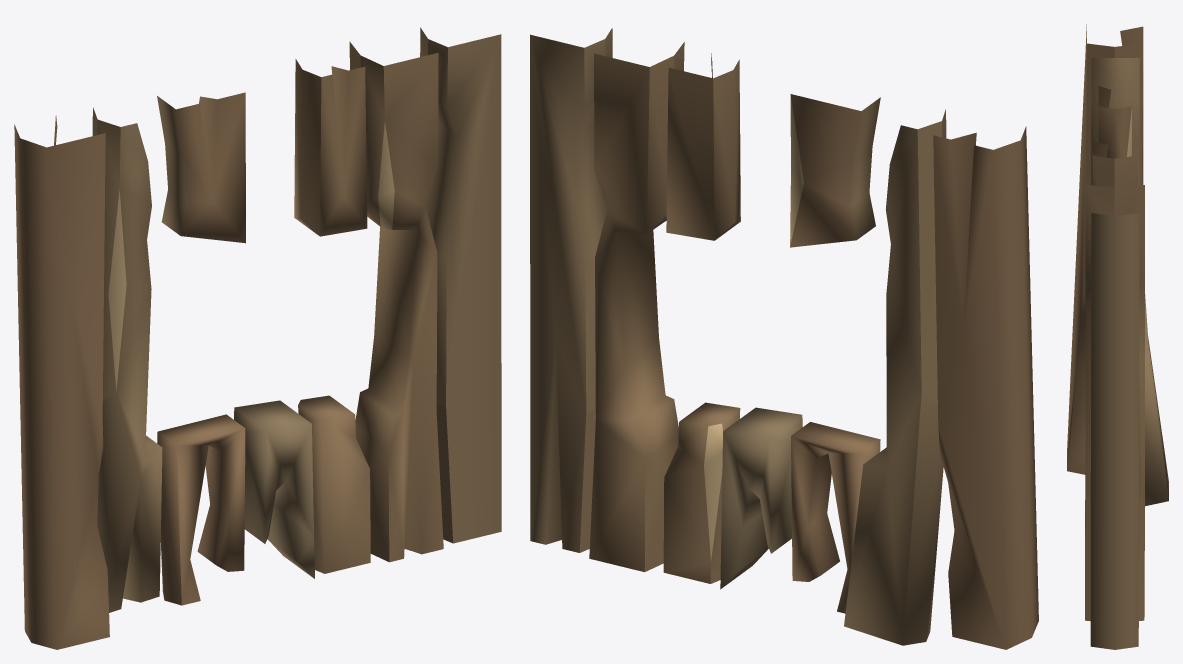
File: rpgpp_av_wall_02_3x3_window_01a.gltf
3 renders of one model, left to right at view 1: azimuth 30°, elevation 25°; view 2: azimuth 150°, elevation 25°; view 3: azimuth 270°, elevation 25°, orthographic. The views are drawn at different scales.
Visible parts, largest first — view 1: rpgpp_av_wall_02_3x3_window_01a; view 2: rpgpp_av_wall_02_3x3_window_01a; view 3: rpgpp_av_wall_02_3x3_window_01a.
Boxes of the visible parts, x1,y1,x2,y2 form: rpgpp_av_wall_02_3x3_window_01a: (14, 27, 501, 649); rpgpp_av_wall_02_3x3_window_01a: (530, 28, 1038, 649); rpgpp_av_wall_02_3x3_window_01a: (1067, 24, 1168, 649).
Bounding box in the file's own units: 0.03 × 0.0302 × 0.00638.
1 material, 1 textured.
